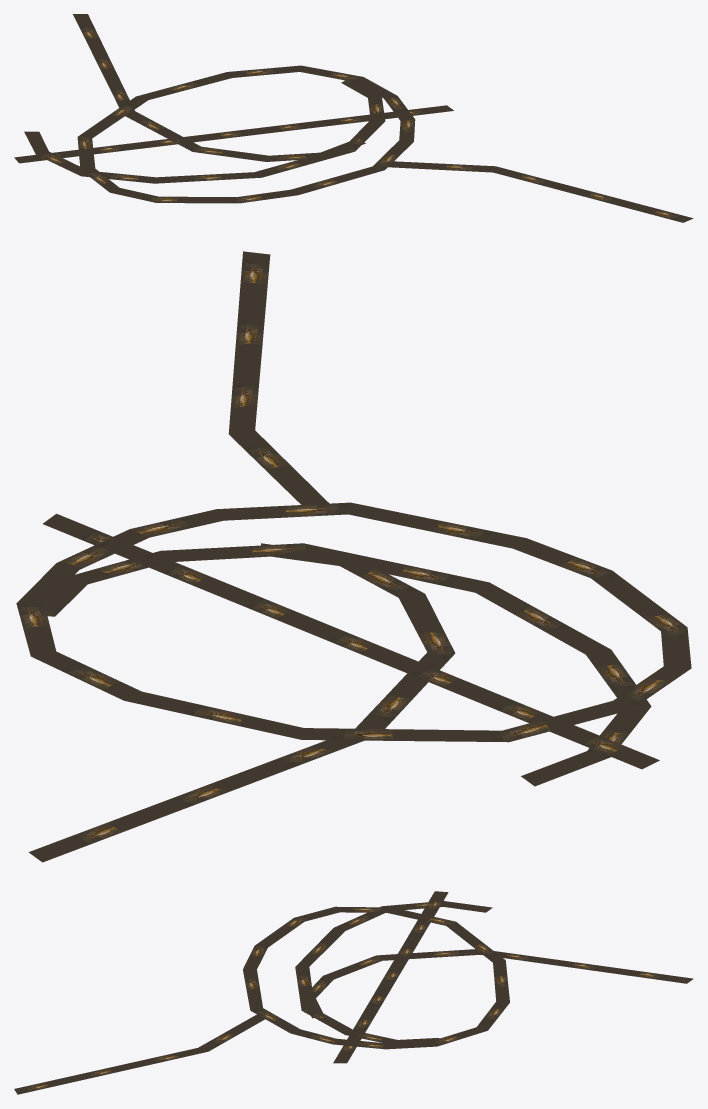
File: cockroaches.glb
3 renders of one model, top to bottom at view 1: azimuth 30°, elevation 25°; view 2: azimuth 150°, elevation 25°; view 3: azimuth 270°, elevation 25°, orthographic. The views are drawn at different scales.
Visible parts, largest first — view 1: cockroaches; view 2: cockroaches; view 3: cockroaches.
Boxes of the visible parts, box(x1,y1,x2,y2) form: cockroaches: box(14, 14, 693, 222); cockroaches: box(16, 251, 691, 862); cockroaches: box(14, 891, 693, 1094).
Bounding box in the file's own units: 1.4 × 0.0035 × 1.98.
1 material, 1 textured.
